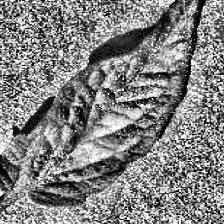leaf mold: (0, 0, 203, 204)
